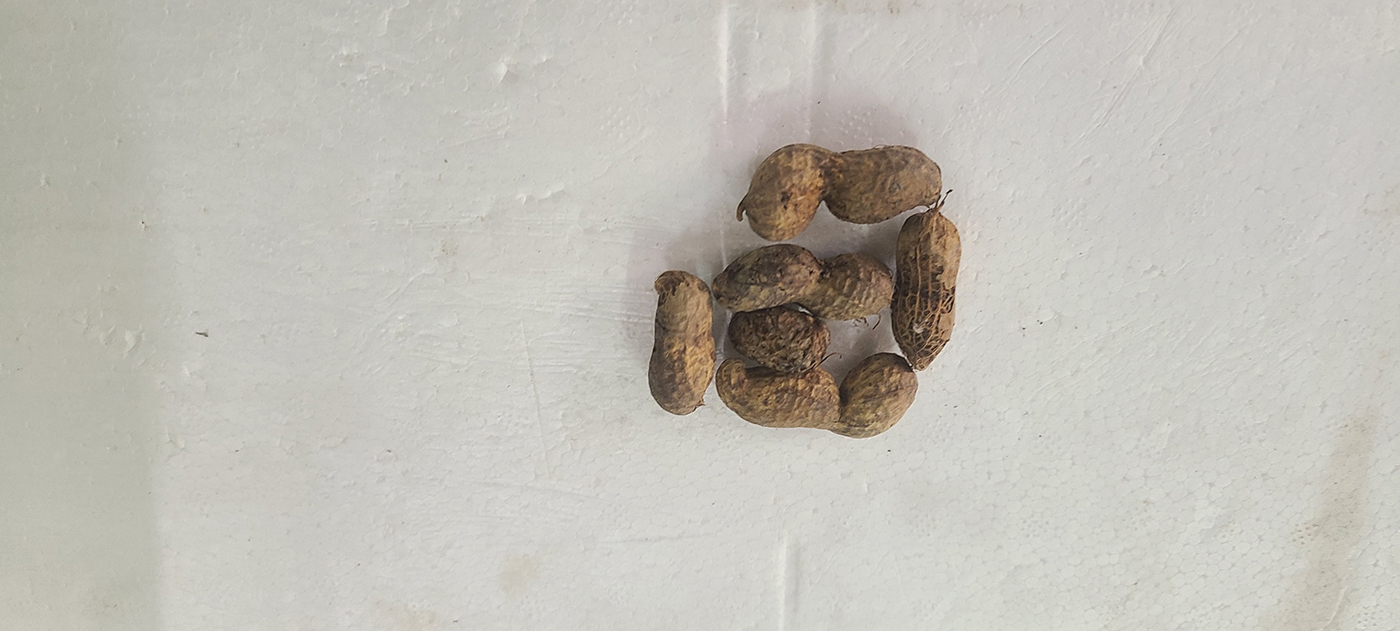l: (741, 144, 940, 240), (717, 355, 918, 439), (714, 245, 896, 319), (893, 211, 961, 367), (648, 270, 717, 416), (727, 308, 829, 372)
